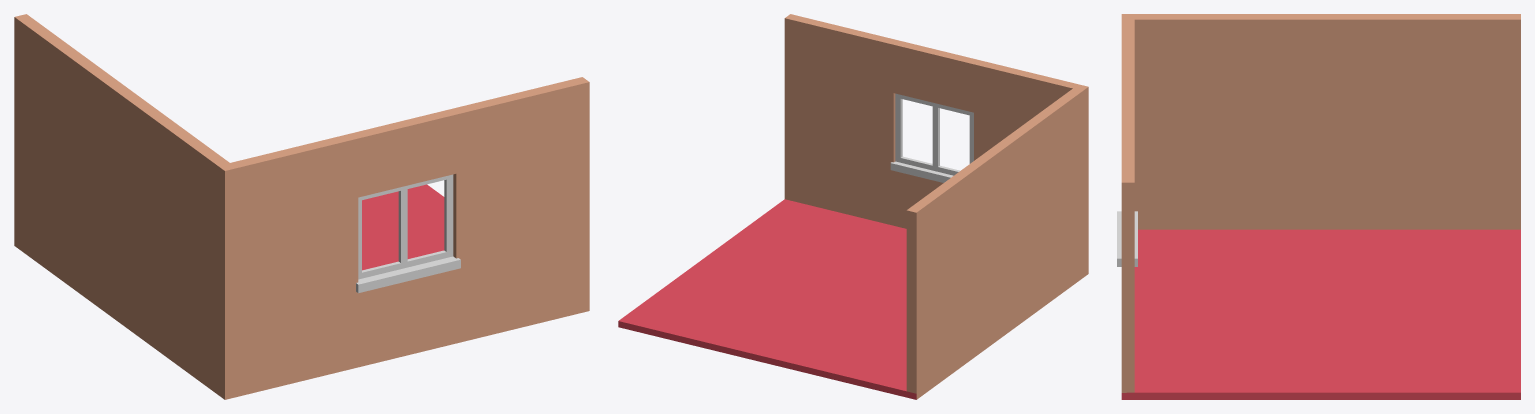
The model's file is window_only.glb.
The picture shows the model from 3 angles, left to right: view 1: azimuth 30°, elevation 25°; view 2: azimuth 150°, elevation 25°; view 3: azimuth 270°, elevation 25°; orthographic projection. The views are drawn at different scales.
Visible parts, largest first — view 1: Cube, Cube.001, Cube.002; view 2: Cube, Cube.001, Cube.002; view 3: Cube, Cube.002.
Part boxes in pixels (x1,y1,x2,y2): Cube: [14, 14, 589, 399]; Cube.001: [358, 174, 453, 279]; Cube.002: [356, 256, 460, 293]; Cube: [618, 14, 1088, 399]; Cube.001: [895, 93, 973, 175]; Cube.002: [890, 161, 953, 182]; Cube: [1121, 14, 1520, 399]; Cube.002: [1117, 211, 1137, 266].
Bounding box in the file's own units: 3 × 1.8 × 3.03.
